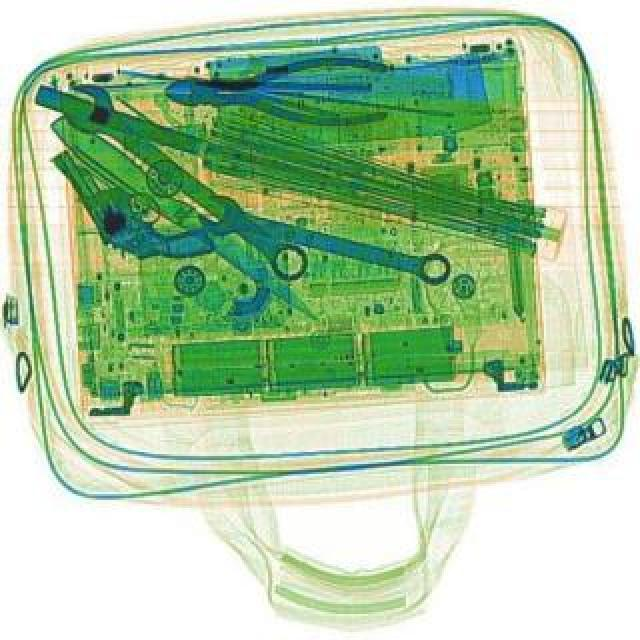gun: (46, 116, 216, 298)
knife: (28, 80, 468, 264), (34, 98, 336, 346)
scissors: (46, 74, 324, 296), (192, 192, 452, 296)
wrench: (166, 60, 386, 130)
